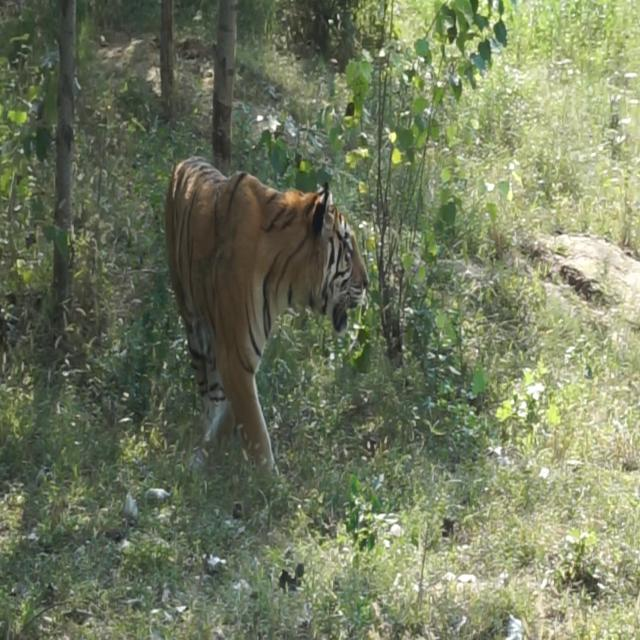Tiger: (158, 135, 397, 510)
